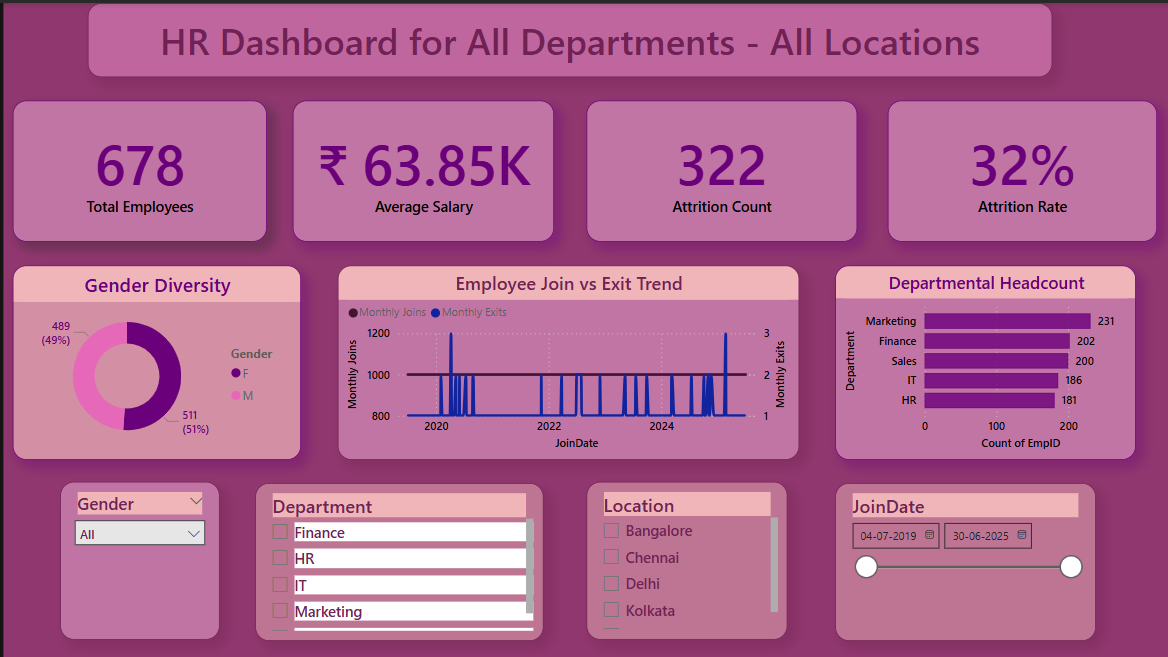

This screenshot's page, from the dashboard's own definition file:
{"tool":"powerbi","page":{"name":"Page 1","canvas":[1280,720],"ordinal":0},"visuals":[{"type":"card","fields":{"Values":["EmployeeData.Total Employees"]},"box":[9.6,107,229.2,104.3],"z":0},{"type":"card","fields":{"Values":["EmployeeData.Attrition Count"]},"box":[502.2,108.4,209.9,102.9],"z":1000},{"type":"card","fields":{"Values":["EmployeeData.Attrition Rate"]},"box":[734.1,107,214.1,104.3],"z":2000},{"type":"card","fields":{"Values":["EmployeeData.Average Salary"]},"box":[255.2,107,223.7,104.3],"z":3000},{"type":"donutChart","title":"Gender Diversity","fields":{"Category":["EmployeeData.Gender"],"Y":["CountNonNull(EmployeeData.EmpID)"]},"box":[9.6,223.7,297.8,212.7],"z":4000},{"type":"clusteredBarChart","title":"Departmental Headcount","fields":{"Category":["EmployeeData.Department"],"Y":["CountNonNull(EmployeeData.EmpID)"]},"box":[314.2,225,314.2,212.7],"z":5000},{"type":"lineChart","title":"Employee Join vs Exit Trend","fields":{"Y":["EmployeeData.Monthly Joins"],"Category":["EmployeeData.JoinDate"],"Y2":["EmployeeData.Monthly Exits"]},"box":[9.6,455.6,297.8,248.4],"z":6000},{"type":"slicer","fields":{"Values":["EmployeeData.Gender"]},"box":[959.2,223.7,307.4,96.1],"z":7000},{"type":"slicer","fields":{"Values":["EmployeeData.Department"]},"box":[959.2,9.6,307.4,89.2],"z":8000},{"type":"slicer","fields":{"Values":["EmployeeData.Location"]},"box":[959.2,330.7,307.4,105.7],"z":9000},{"type":"slicer","fields":{"Values":["EmployeeData.JoinDate"]},"box":[959.2,108.4,307.4,102.9],"z":10000},{"type":"card","fields":{"Values":["EmployeeData.Dashboard Title"]},"box":[9.6,9.6,938.6,89.2],"z":11000},{"type":"columnChart","title":"Attrition by Department","fields":{"Category":["EmployeeData.Department"],"Y":["EmployeeData.Attrition Count"]},"box":[639.5,225,308.7,212.7],"z":12000},{"type":"clusteredColumnChart","title":"Average Salary by Department","fields":{"Y":["Avg(EmployeeData.Salary)"],"Category":["EmployeeData.Department"]},"box":[314.2,455.6,315.6,248.4],"z":13000},{"type":"barChart","title":"Attrition Count by JobRole","fields":{"Y":["EmployeeData.Attrition Count"],"Category":["EmployeeData.JobRole"]},"box":[639.5,456.9,307.4,248.4],"z":13001},{"type":"barChart","title":"Diversity Breakdown by Department","fields":{"Category":["EmployeeData.Department"],"Series":["EmployeeData.Gender"],"Y":["CountNonNull(EmployeeData.EmpID)"]},"box":[959,457,307,248],"z":13002}]}

Visuals, with their boxes in screenshot pixels (x1, y1, x2, y2), scaled from the page's 1280x720 canvas onto the 1168x657 screenshot:
card - EmployeeData.Total Employees: (9, 98, 218, 193)
card - EmployeeData.Attrition Count: (458, 99, 650, 193)
card - EmployeeData.Attrition Rate: (670, 98, 865, 193)
card - EmployeeData.Average Salary: (233, 98, 437, 193)
"Gender Diversity" donutChart: (9, 204, 281, 398)
"Departmental Headcount" clusteredBarChart: (287, 205, 573, 399)
"Employee Join vs Exit Trend" lineChart: (9, 416, 281, 642)
slicer - EmployeeData.Gender: (875, 204, 1156, 292)
slicer - EmployeeData.Department: (875, 9, 1156, 90)
slicer - EmployeeData.Location: (875, 302, 1156, 398)
slicer - EmployeeData.JoinDate: (875, 99, 1156, 193)
card - EmployeeData.Dashboard Title: (9, 9, 865, 90)
"Attrition by Department" columnChart: (584, 205, 865, 399)
"Average Salary by Department" clusteredColumnChart: (287, 416, 575, 642)
"Attrition Count by JobRole" barChart: (584, 417, 864, 644)
"Diversity Breakdown by Department" barChart: (875, 417, 1155, 643)
